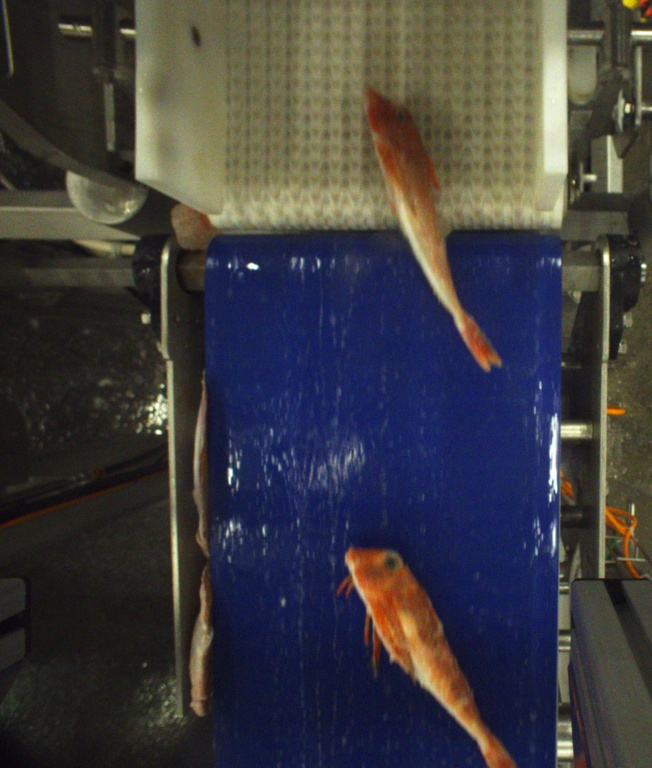GUU: (340, 546, 519, 768)
